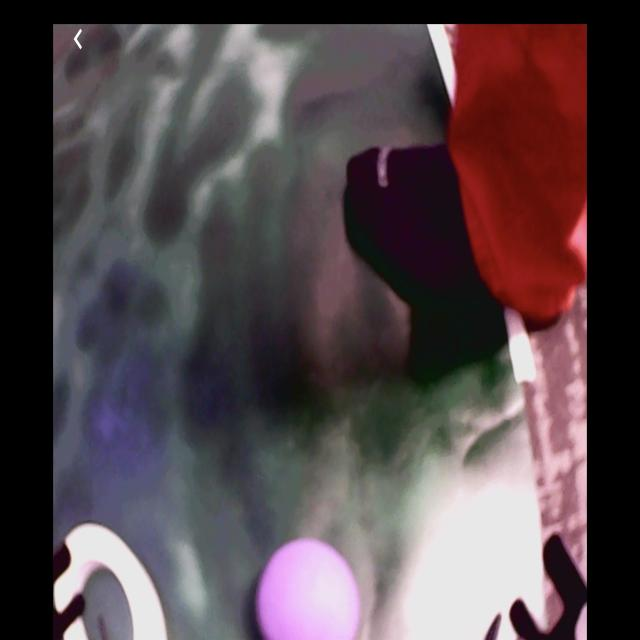ball: (257, 541, 362, 640)
